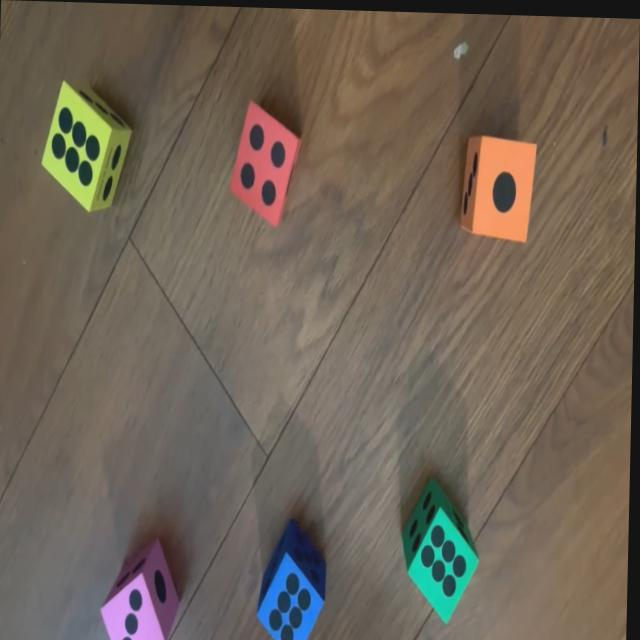cube: (404, 484, 482, 623), (229, 99, 300, 229), (259, 527, 329, 640)
